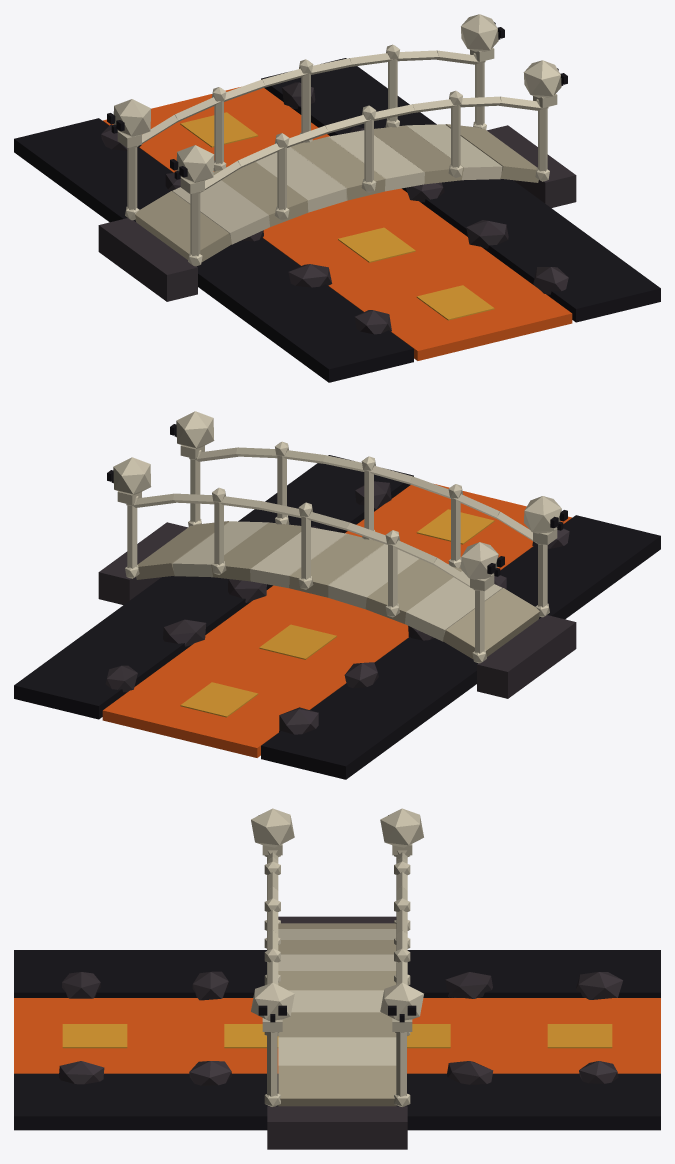
Rendered from Decor_HellGate_BoneBridge.fbx.
3 renders of one model, top to bottom at view 1: azimuth 30°, elevation 25°; view 2: azimuth 150°, elevation 25°; view 3: azimuth 270°, elevation 25°, orthographic. The views are drawn at different scales.
Parts seen in each view (by area): view 1: BoneBridge_Body; view 2: BoneBridge_Body; view 3: BoneBridge_Body.
Part boxes in pixels (left/top/right/bottom): BoneBridge_Body: left=14, top=14, right=660, bottom=382; BoneBridge_Body: left=14, top=411, right=660, bottom=779; BoneBridge_Body: left=14, top=808, right=660, bottom=1149.
Size of the model in its own units: 18 by 6.2 by 24.
